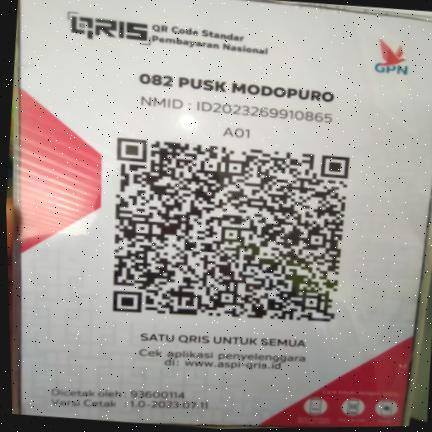Cara Pakai QRIS: (286, 384, 405, 427)
Cek Aplikasi Penyelenggara: (133, 346, 312, 374)
Dicetak Oleh: (49, 387, 187, 399)
Logo GPN: (367, 34, 413, 80)
Logo dan deskripsi QRIS: (60, 7, 277, 62)
Nama Merchant: (134, 69, 340, 107)
National Merchant ID: (133, 91, 339, 127)
QR Code: (106, 132, 354, 327)
Slogan: (133, 329, 312, 350)
Terminal ID: (216, 123, 255, 143)
Versi Cetak: (49, 397, 211, 410)
